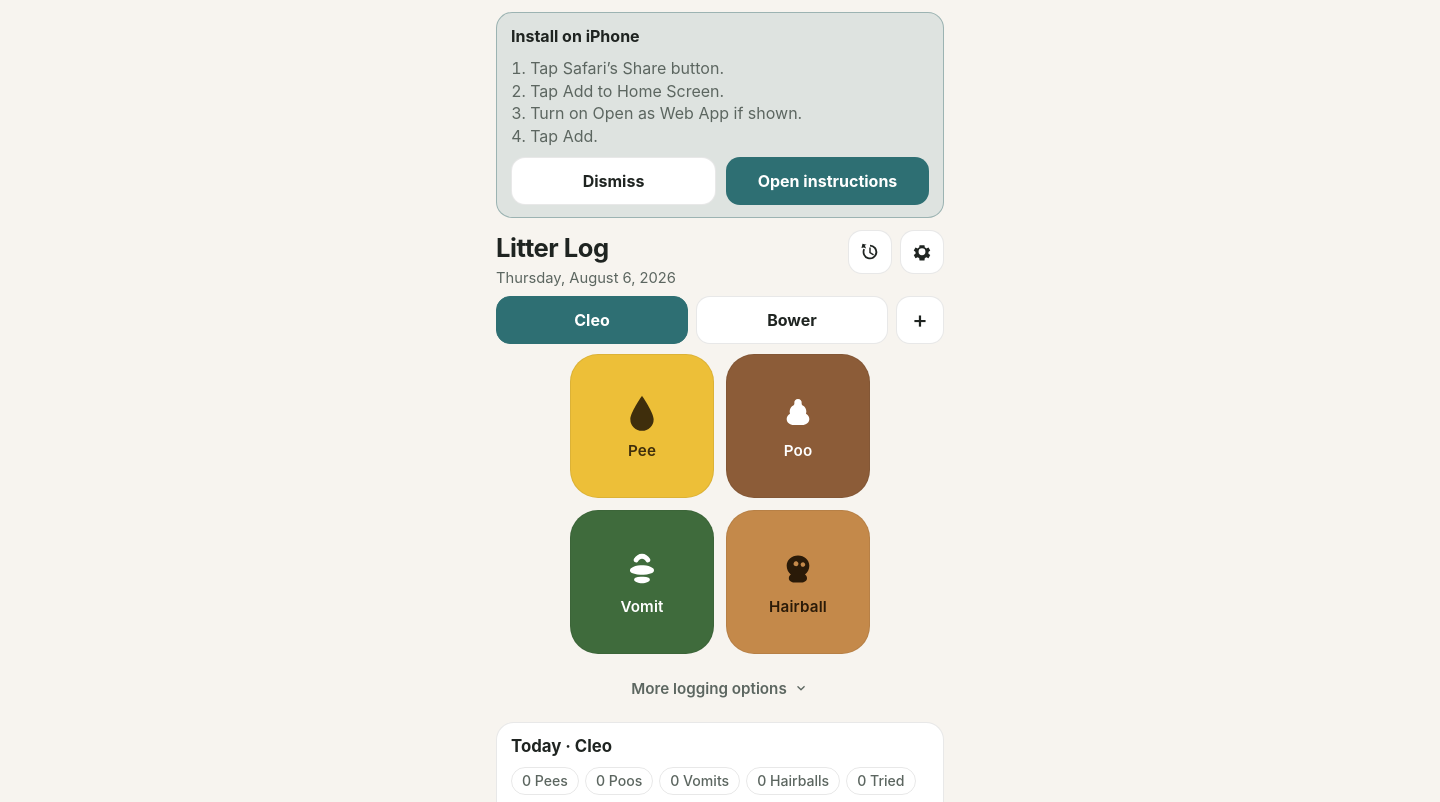
Test: Vomit and Hairball logging › opens Vomit details without saving, then logs No detail and Grass
Expected: the radio button labelled "Cleo" is shown, x1=496 y1=296 x2=688 y2=344
Step 1. Click the button "Vomit" → (642, 582), box x1=570 y1=510 x2=714 y2=654
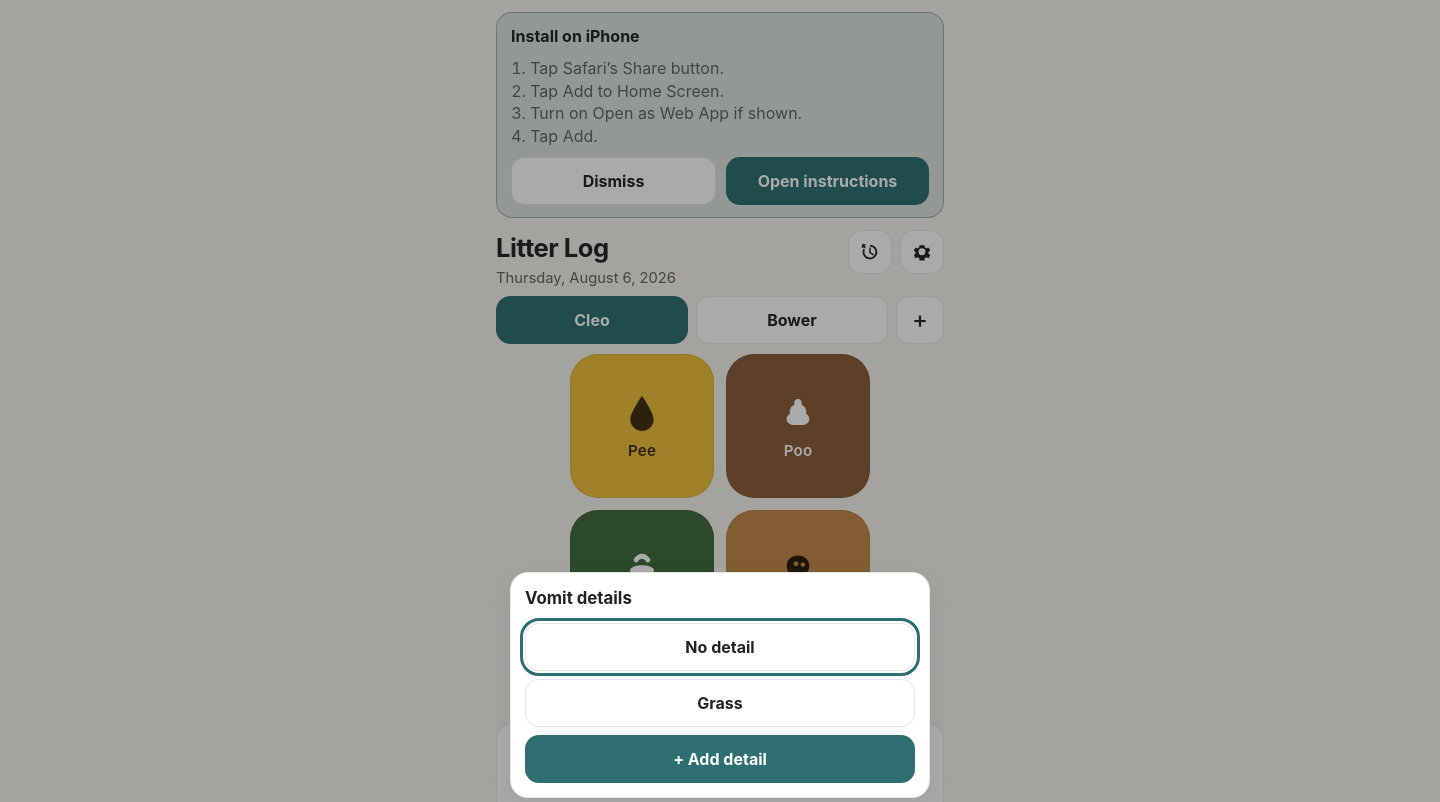
Expected: the heading "Recent" is not shown
Now the heading "Vomit details" is shown, box x1=525 y1=588 x2=632 y2=608
Step 2. Click the button "No detail" → (720, 647), box x1=525 y1=623 x2=915 y2=671
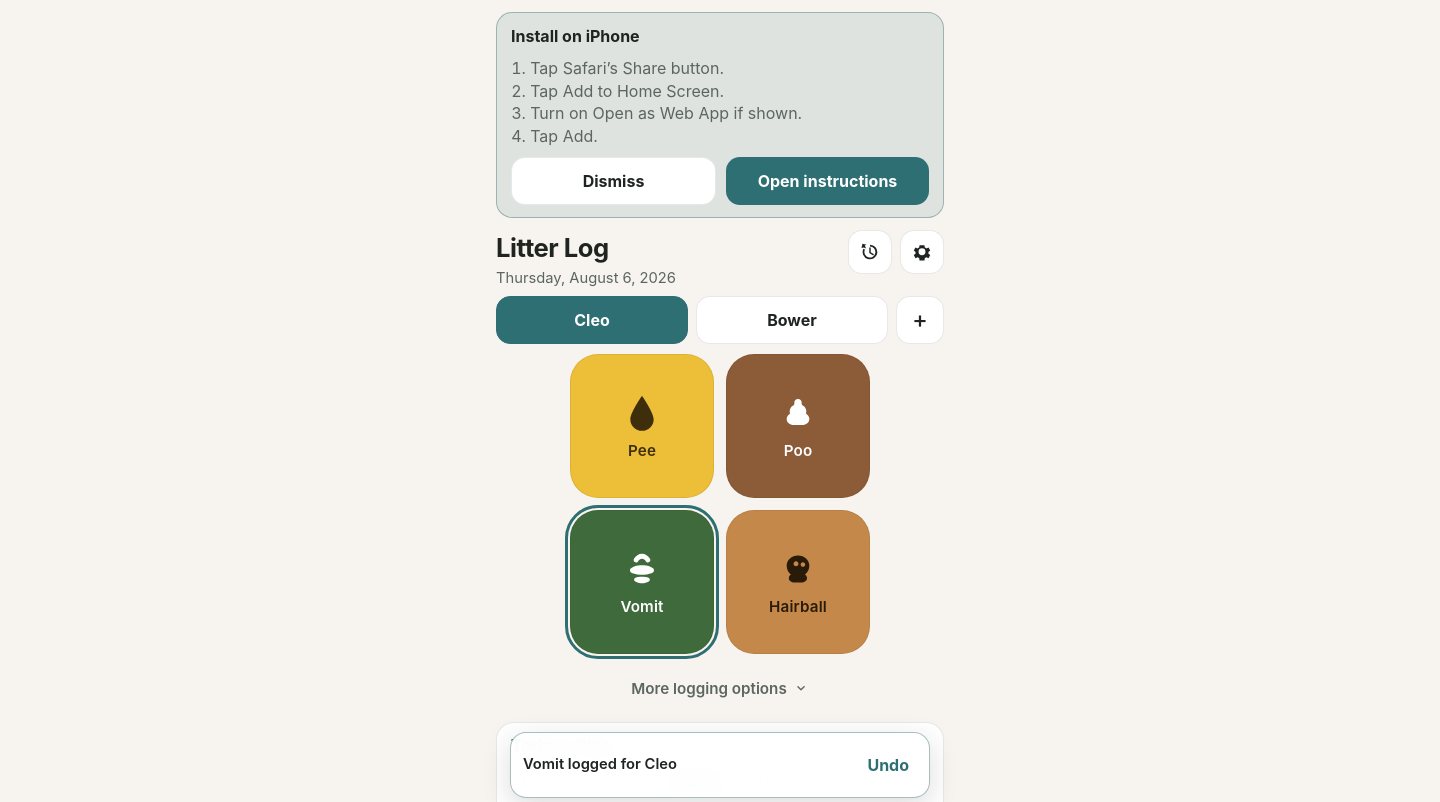
Now the element with test id "status-toast" shows "Vomit logged for Cleo", box x1=523 y1=755 x2=677 y2=773
Step 3. Click the button "Vomit" → (642, 582), box x1=570 y1=510 x2=714 y2=654
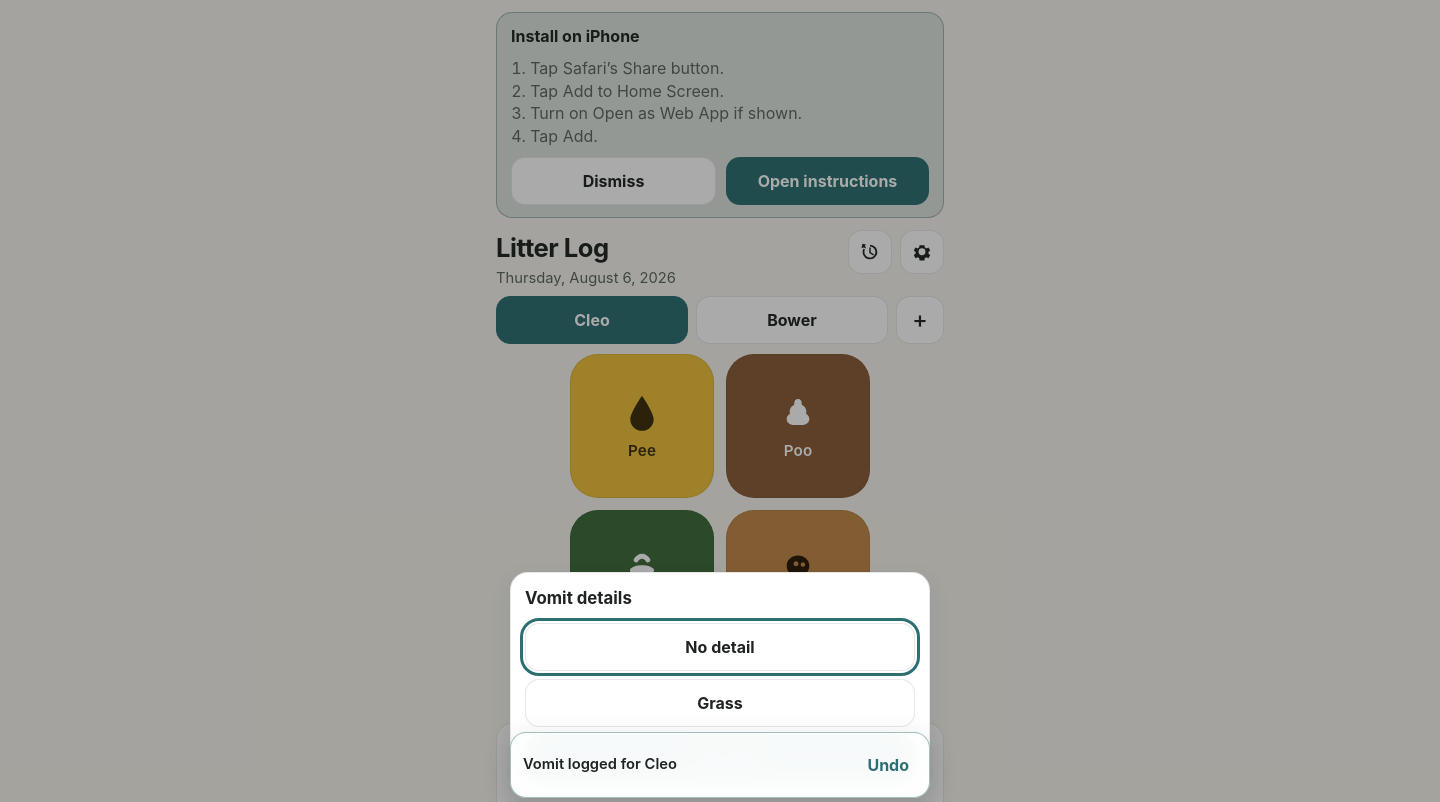
Step 4. Click the button "Grass" → (720, 703), box x1=525 y1=679 x2=915 y2=727
(page scrolled)
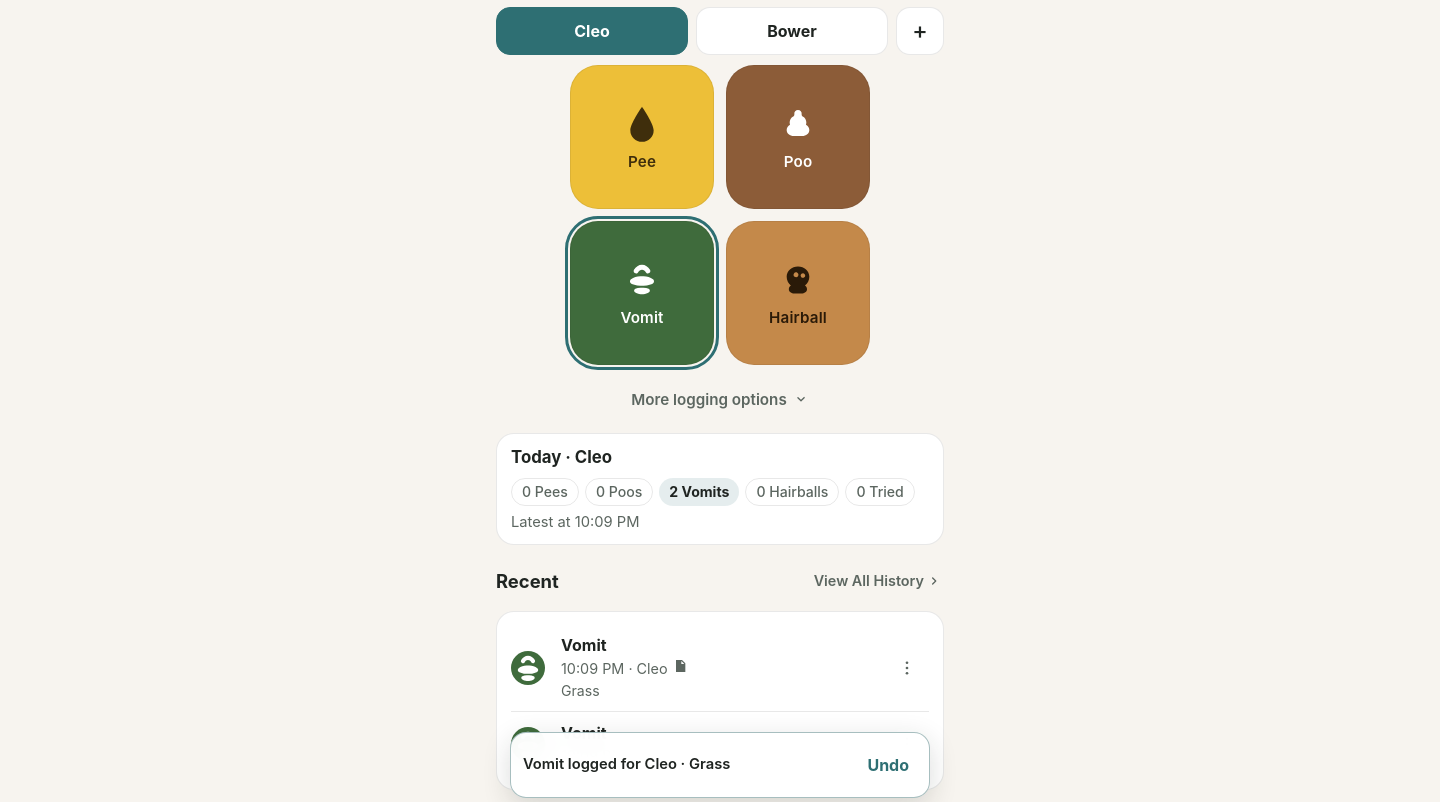
Now the element with test id "status-toast" shows "Vomit logged for Cleo · Grass", box x1=523 y1=755 x2=730 y2=773
Now the element with test id "today-stats" shows "2 Vomits", box x1=669 y1=483 x2=729 y2=500
Now the text "Grass" is shown, box x1=561 y1=682 x2=600 y2=699
